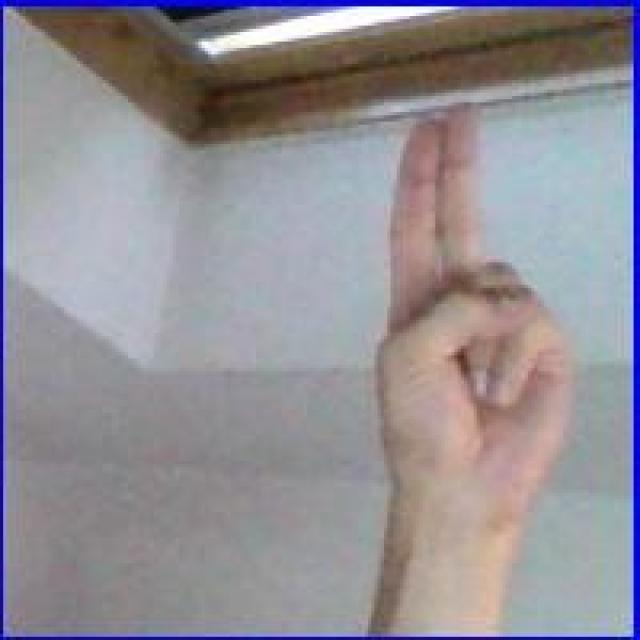U: (365, 84, 579, 546)
